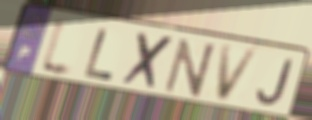J: (255, 57, 296, 107)
L: (36, 14, 76, 82), (82, 26, 117, 83)
N: (162, 37, 219, 99)
V: (214, 44, 262, 104)
X: (119, 30, 177, 94)
